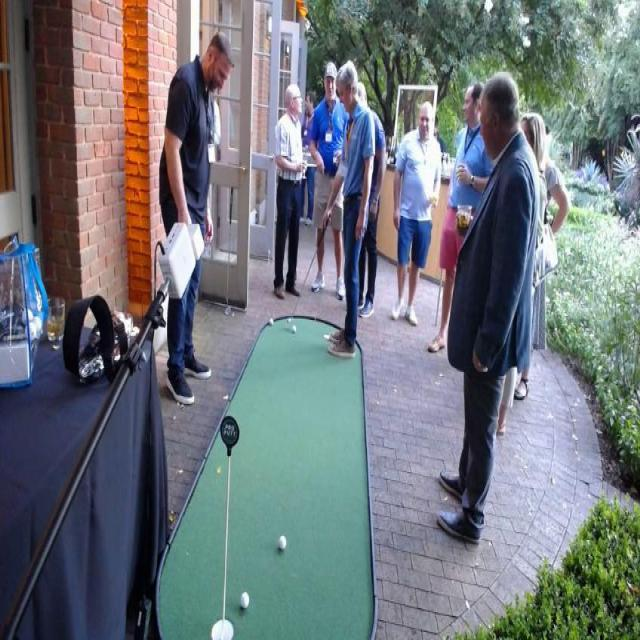GolfBall: (237, 584, 254, 614), (274, 530, 289, 552), (266, 312, 276, 330), (289, 321, 300, 336)
